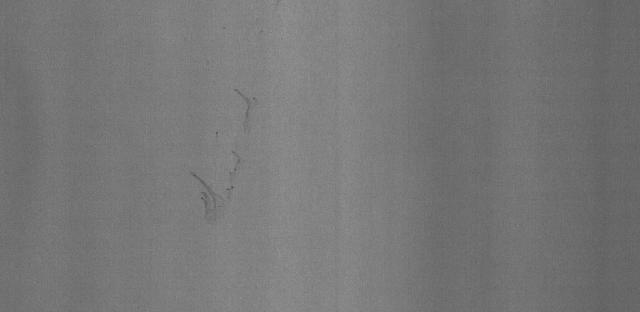water_spot: (182, 83, 263, 233)
